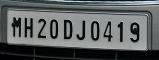0: (89, 18, 100, 41), (48, 18, 58, 38)
1: (116, 20, 124, 41)
2: (36, 17, 47, 38)
4: (102, 20, 113, 42)
9: (129, 20, 140, 42)
D: (62, 17, 73, 40)
H: (22, 16, 34, 39)
J: (75, 18, 87, 40)
M: (11, 15, 22, 37)
